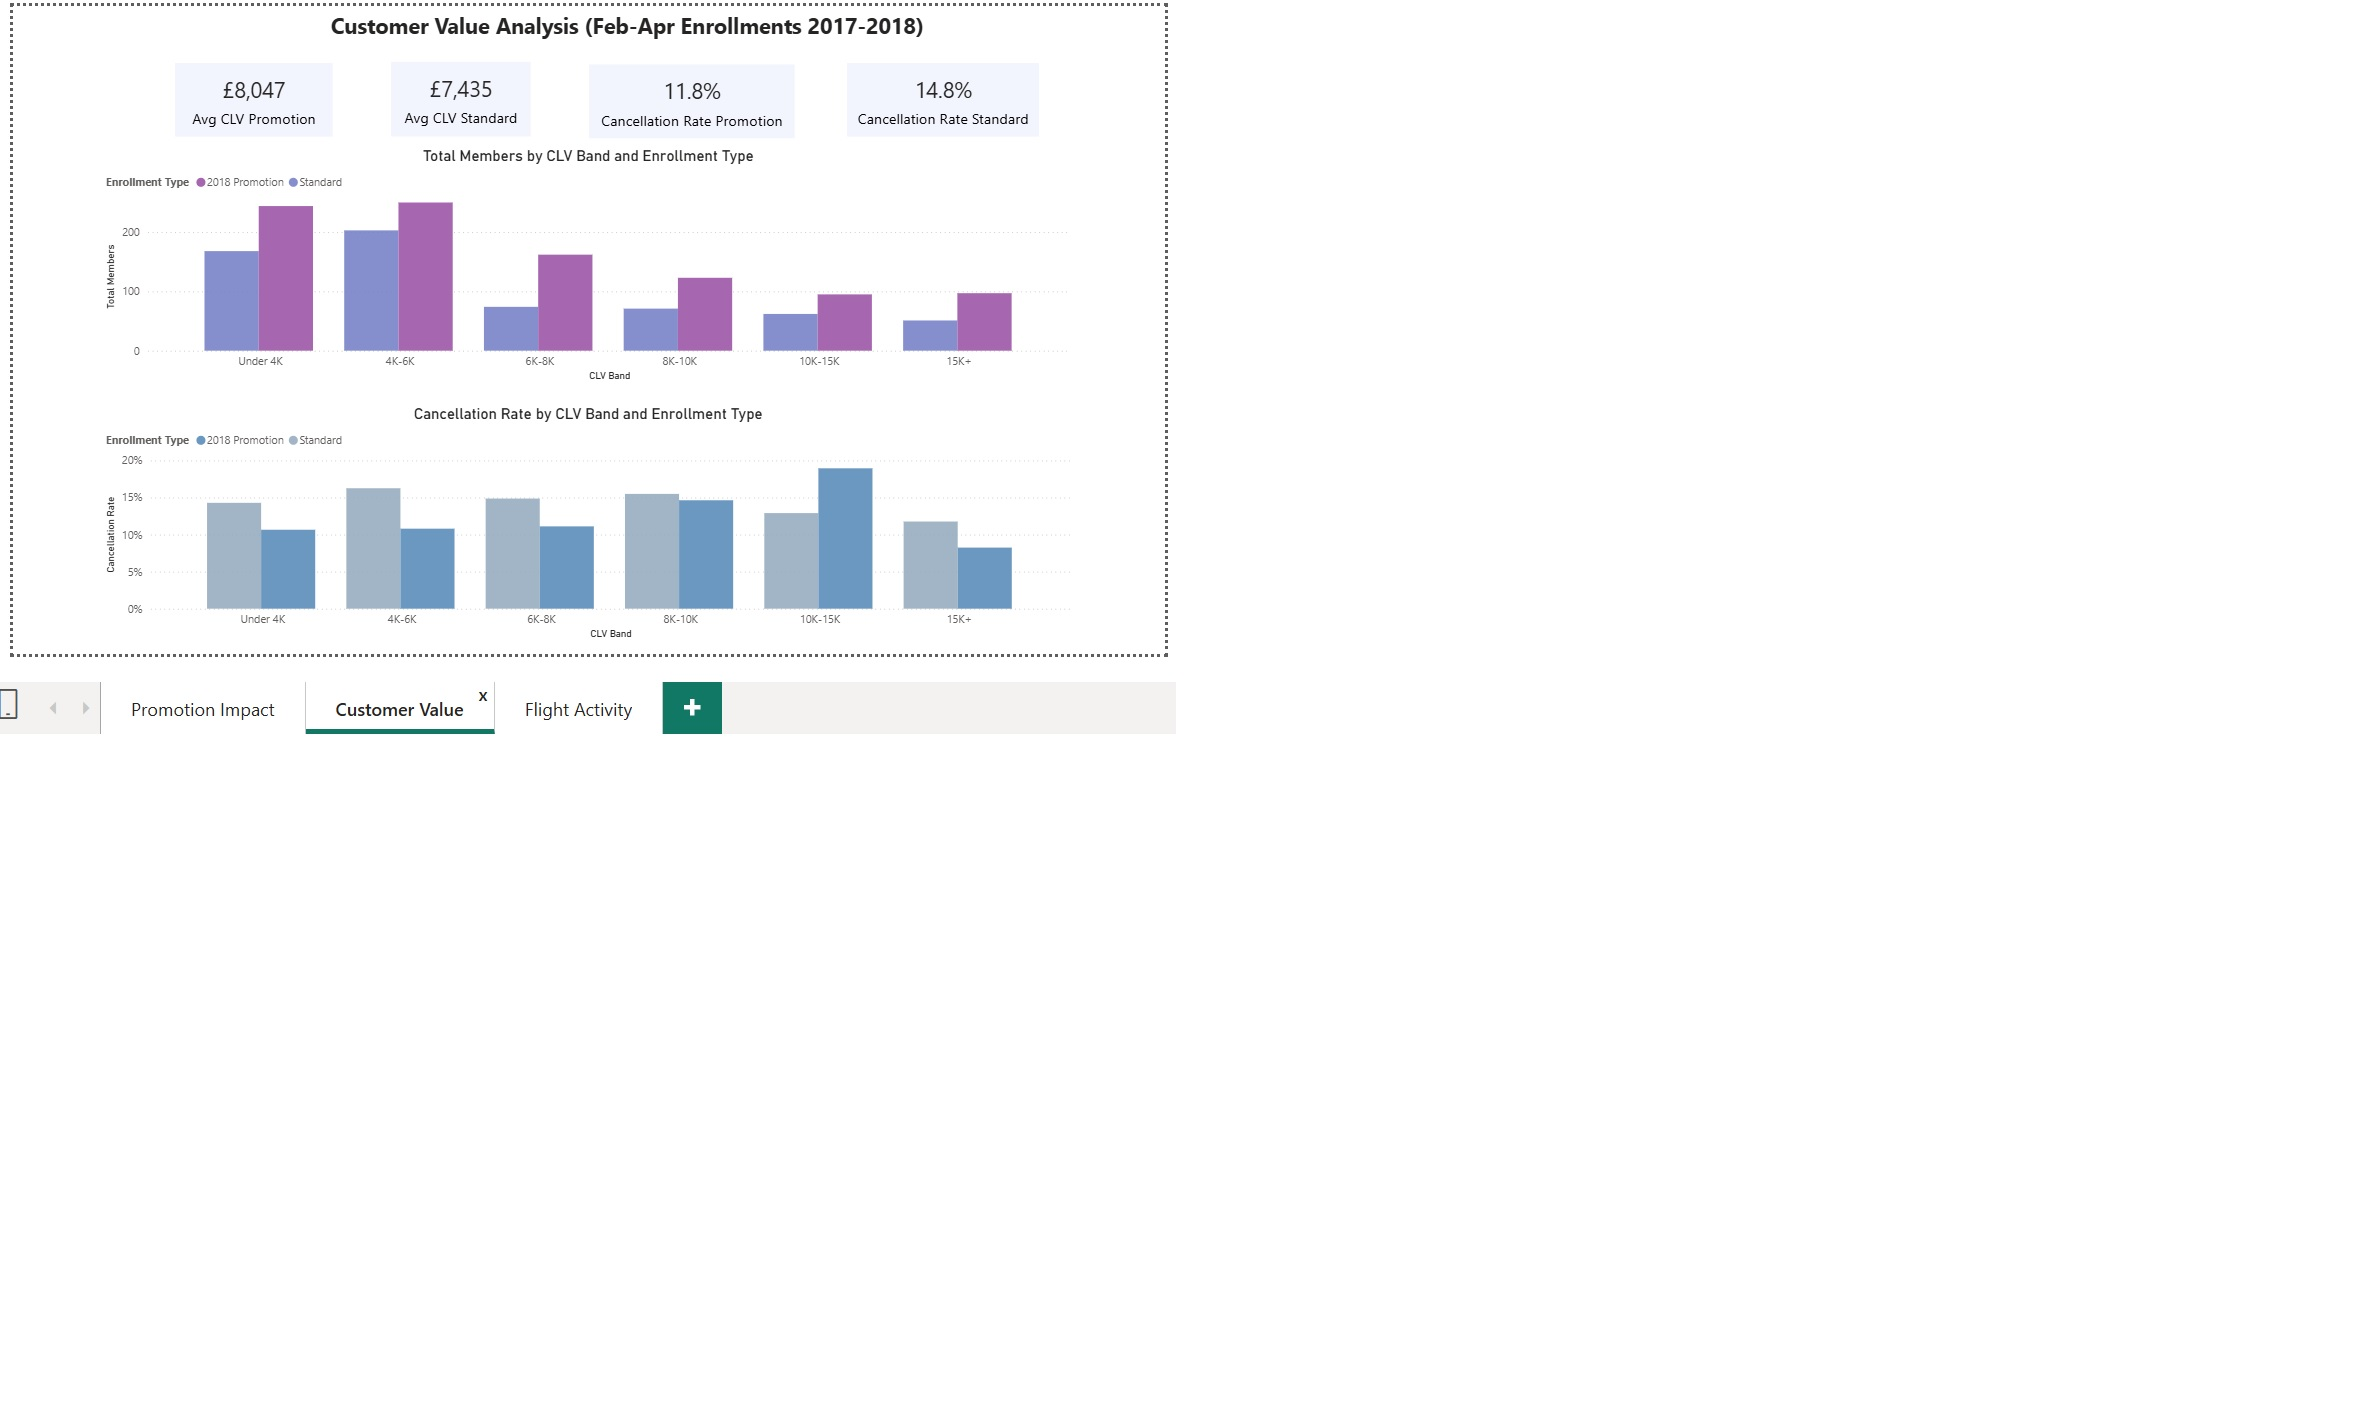

What the dashboard file says about the page in this screenshot:
{"tool":"powerbi","page":{"name":"Customer Value","canvas":[1280,720],"ordinal":1},"visuals":[{"type":"card","fields":{"Values":["Measure Table.Cancellation Rate Promotion"]},"box":[640,65,228.3,81.7],"z":0},{"type":"clusteredColumnChart","fields":{"Category":["Customer Loyalty History.CLV Band"],"Series":["Customer Loyalty History.Enrollment Type"],"Y":["Measure Table.Total Members"]},"box":[98.3,156.7,1081.7,265],"z":0},{"type":"card","fields":{"Values":["Measure Table.Avg CLV Promotion"]},"box":[180,63.3,175,81.7],"z":1000},{"type":"card","fields":{"Values":["Measure Table.Avg CLV Standard"]},"box":[420,61.7,155,83.3],"z":2000},{"type":"clusteredColumnChart","fields":{"Category":["Customer Loyalty History.CLV Band"],"Series":["Customer Loyalty History.Enrollment Type"],"Y":["Measure Table.Cancellation Rate"]},"box":[98.3,443.3,1081.7,265],"z":2000},{"type":"textbox","box":[185,0,995,61.7],"z":3000},{"type":"card","fields":{"Values":["Measure Table.Cancellation Rate Standard"]},"box":[926.7,63.3,213.3,81.7],"z":3000}]}

Visuals, with their boxes on the page's 1280x720 design canvas (x1, y1, x2, y2). These are canvas units, not pixel positions in the 2358x1428 screenshot, which may show the page scaled, cropped or inside an application window:
card - Measure Table.Cancellation Rate Promotion: x1=640, y1=65, x2=868, y2=147
clusteredColumnChart - Customer Loyalty History.CLV Band x Customer Loyalty History.Enrollment Type: x1=98, y1=157, x2=1180, y2=422
card - Measure Table.Avg CLV Promotion: x1=180, y1=63, x2=355, y2=145
card - Measure Table.Avg CLV Standard: x1=420, y1=62, x2=575, y2=145
clusteredColumnChart - Customer Loyalty History.CLV Band x Customer Loyalty History.Enrollment Type: x1=98, y1=443, x2=1180, y2=708
textbox: x1=185, y1=0, x2=1180, y2=62
card - Measure Table.Cancellation Rate Standard: x1=927, y1=63, x2=1140, y2=145
